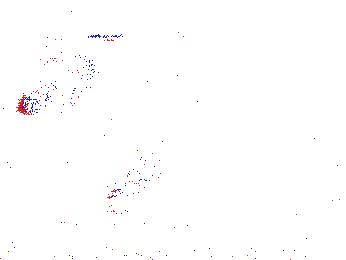flame jellyfish: (18, 46, 104, 116), (245, 172, 316, 226), (104, 145, 163, 199)
